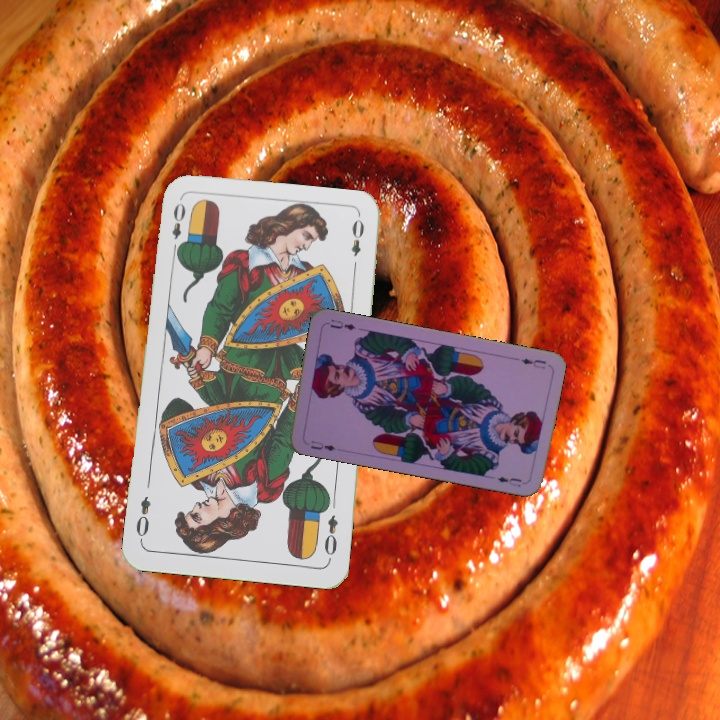EO: (167, 198, 188, 257), (320, 511, 341, 558)
EU: (517, 354, 548, 372), (307, 437, 338, 453)
